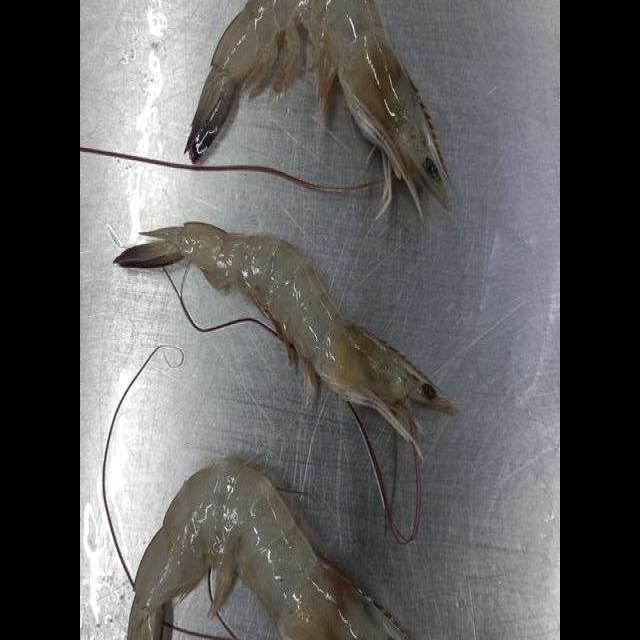shrimp: (116, 222, 456, 457), (187, 0, 452, 217), (128, 460, 407, 640)
